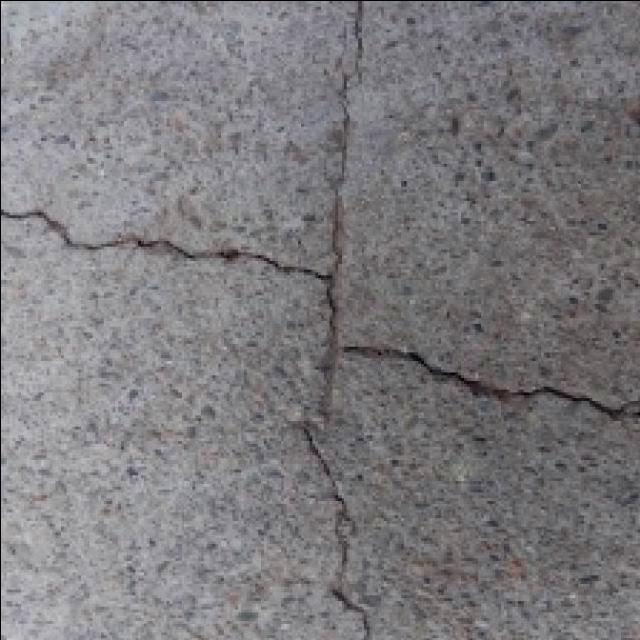SurfaceCrack: (274, 0, 408, 640), (2, 180, 366, 320), (300, 312, 640, 414)
